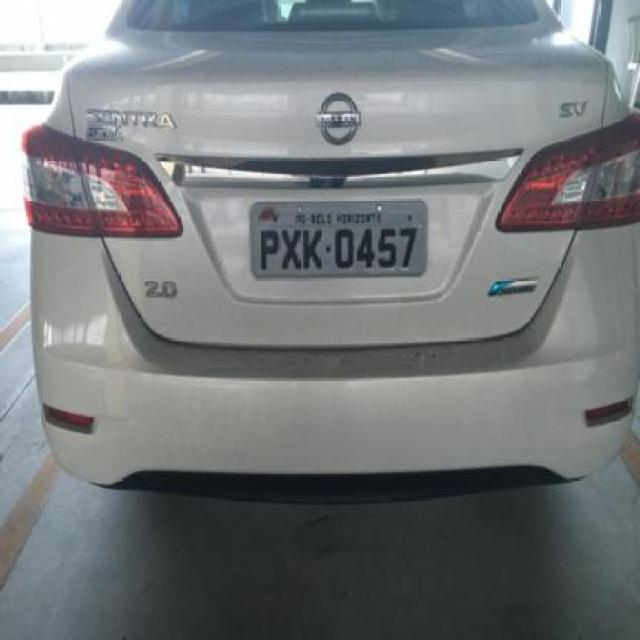old_plate: (243, 192, 435, 284)
